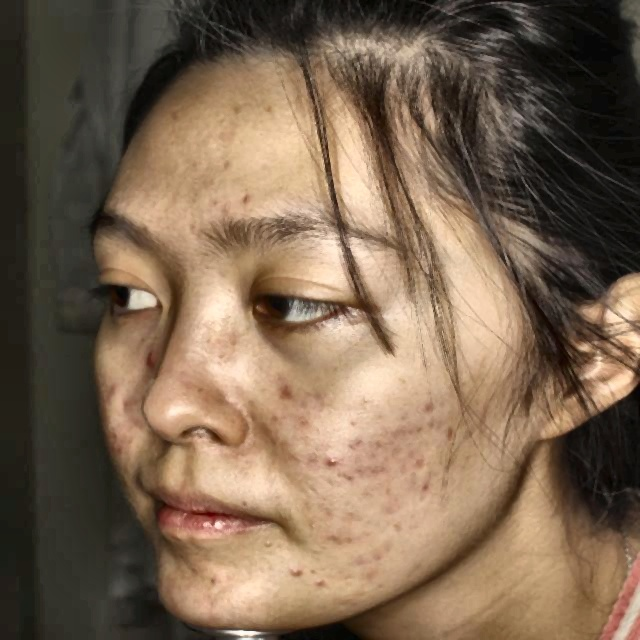pustule: (320, 449, 349, 478), (412, 474, 442, 501), (355, 557, 382, 587), (142, 349, 168, 371), (272, 380, 298, 401), (314, 568, 338, 588), (284, 564, 308, 579), (412, 448, 429, 469)
